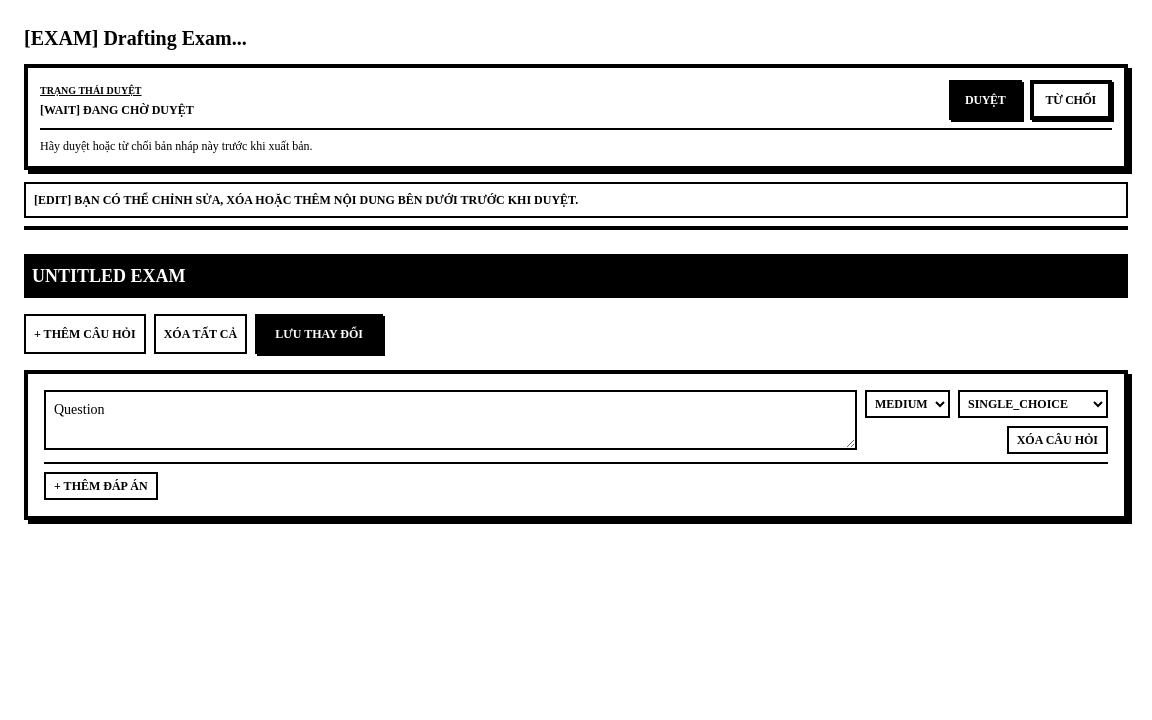
Test: AI generation job review panel › rejecting sends the observed version and closes the job
Click the button "Từ chối": (1071,100) [1030,80,1112,120]
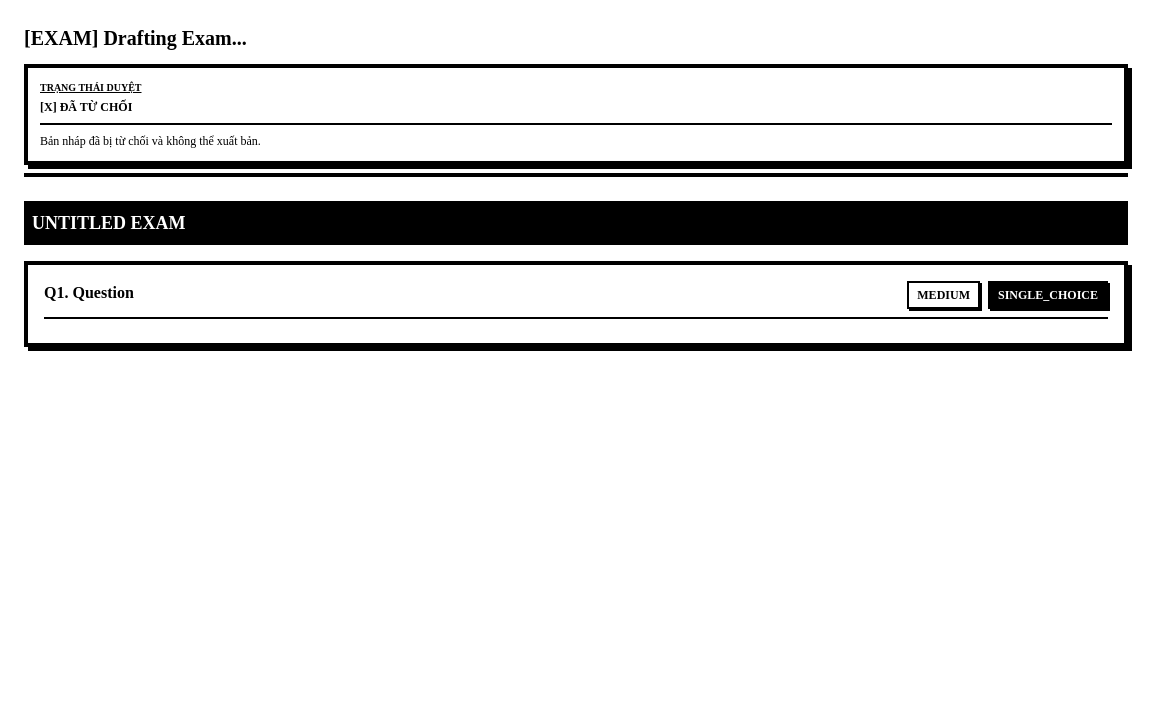
expect the message with test id "generation-job-status" shows "ĐÃ TỪ CHỐI": met, box [40,100,132,114]
